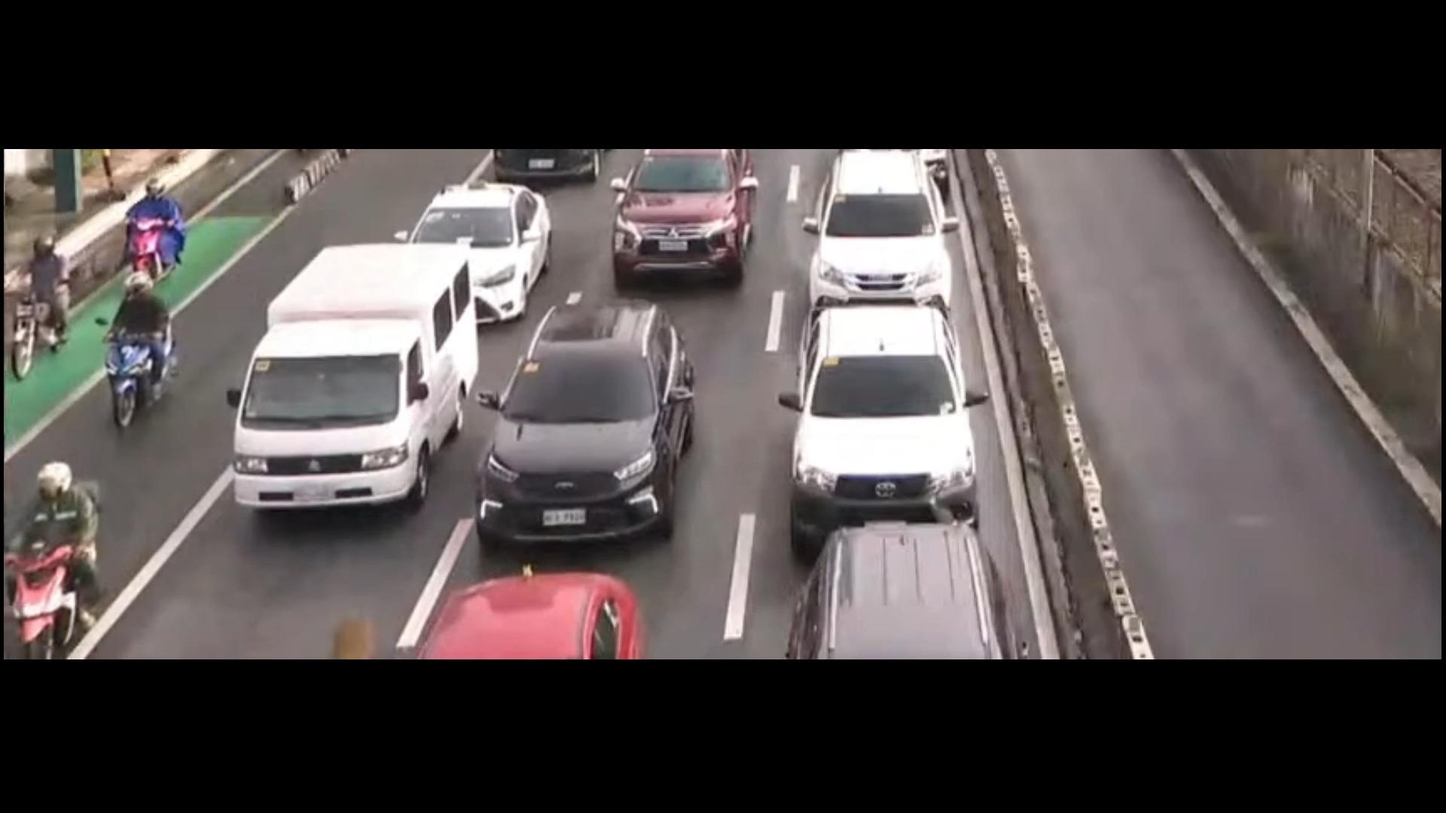Motorcycle: (0, 463, 113, 657), (97, 277, 187, 431), (117, 175, 215, 292), (0, 224, 81, 360)
Multicab: (182, 238, 488, 538)
SUV: (453, 292, 721, 547), (774, 277, 1011, 520), (759, 542, 1042, 655), (793, 144, 950, 316), (597, 146, 778, 286)
Sedan: (402, 180, 573, 325), (384, 571, 676, 655)
